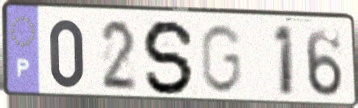0: (47, 17, 86, 91)
1: (271, 22, 298, 100)
2: (98, 18, 139, 95)
6: (303, 26, 346, 99)
G: (198, 22, 244, 96)
S: (140, 17, 198, 97)
